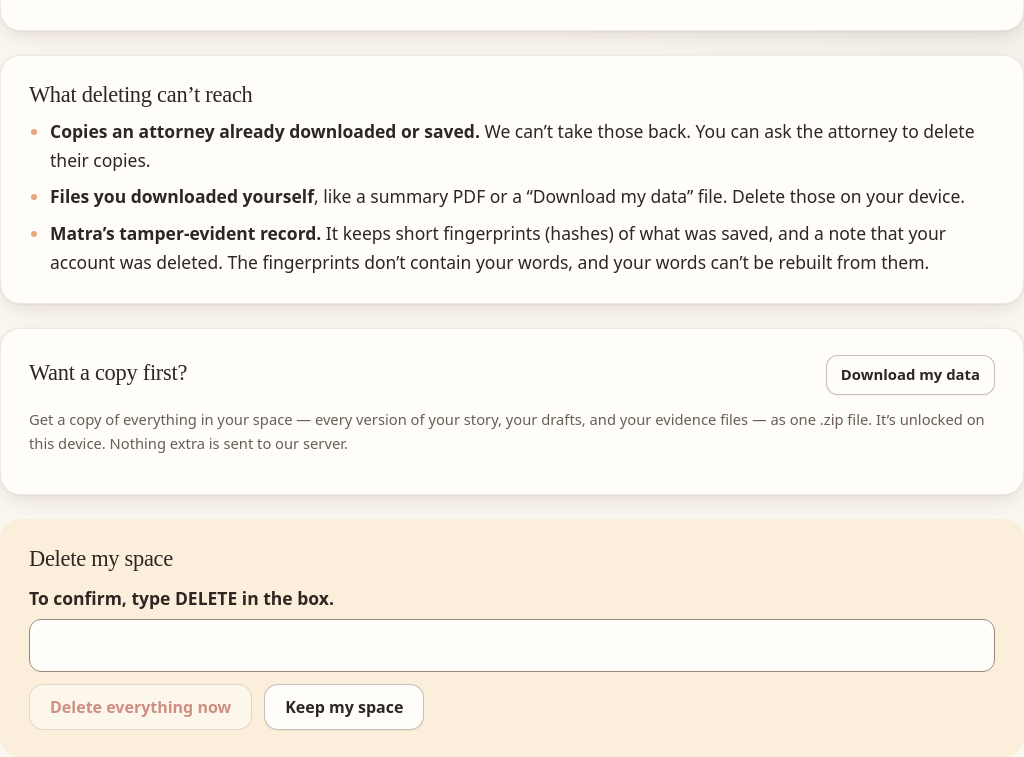
Delete everything › if deleting fails, nothing changes and she can try again
The image size is (1024, 757).
(page scrolled)
Type "DELETE" into the field labelled "To confirm, type DELETE in the box." at x=512, y=646, box [29,619,995,672]
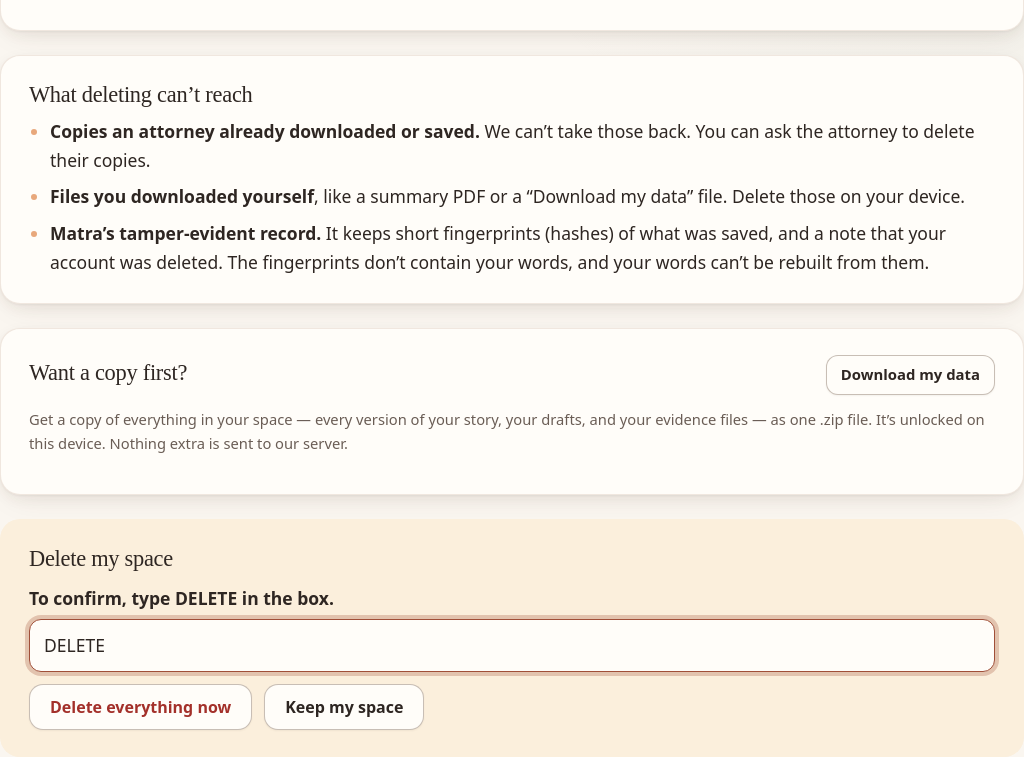
Click the button "Delete everything now" at x=141, y=707, box [29,684,252,730]
(page scrolled)
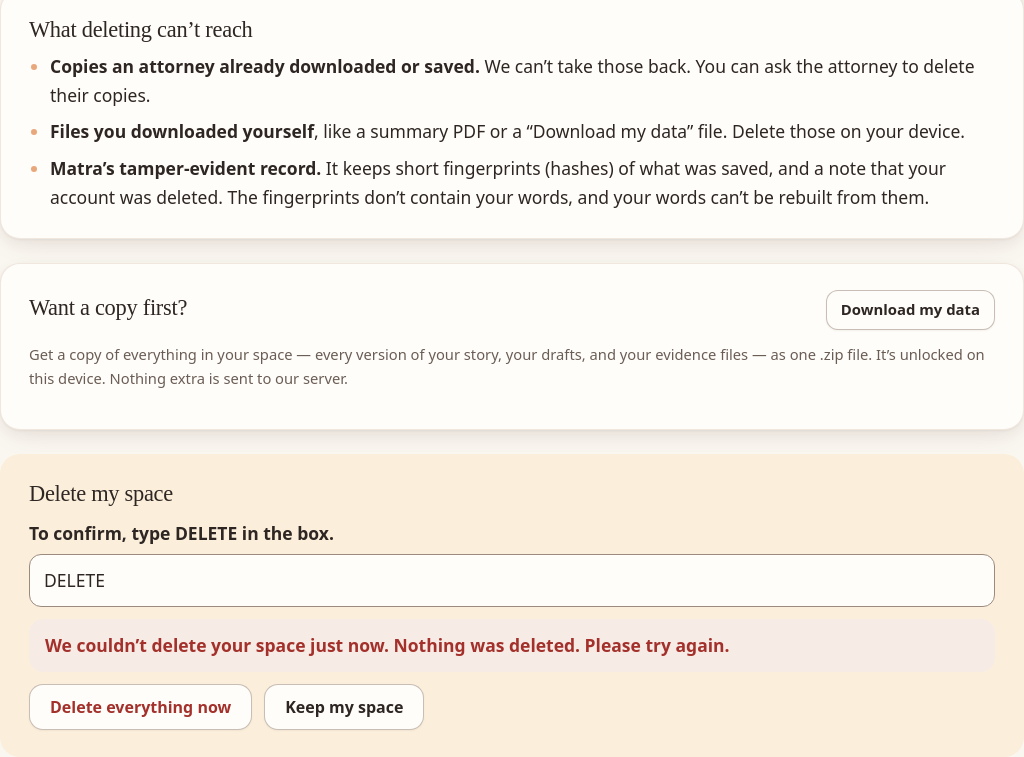
Now the button "Delete everything now" is enabled, box [29,684,252,730]
Now the message shows "Nothing was deleted", box [45,633,730,657]
